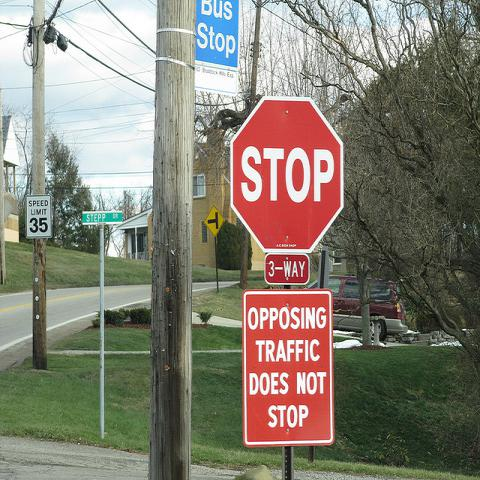car: (329, 274, 408, 342)
